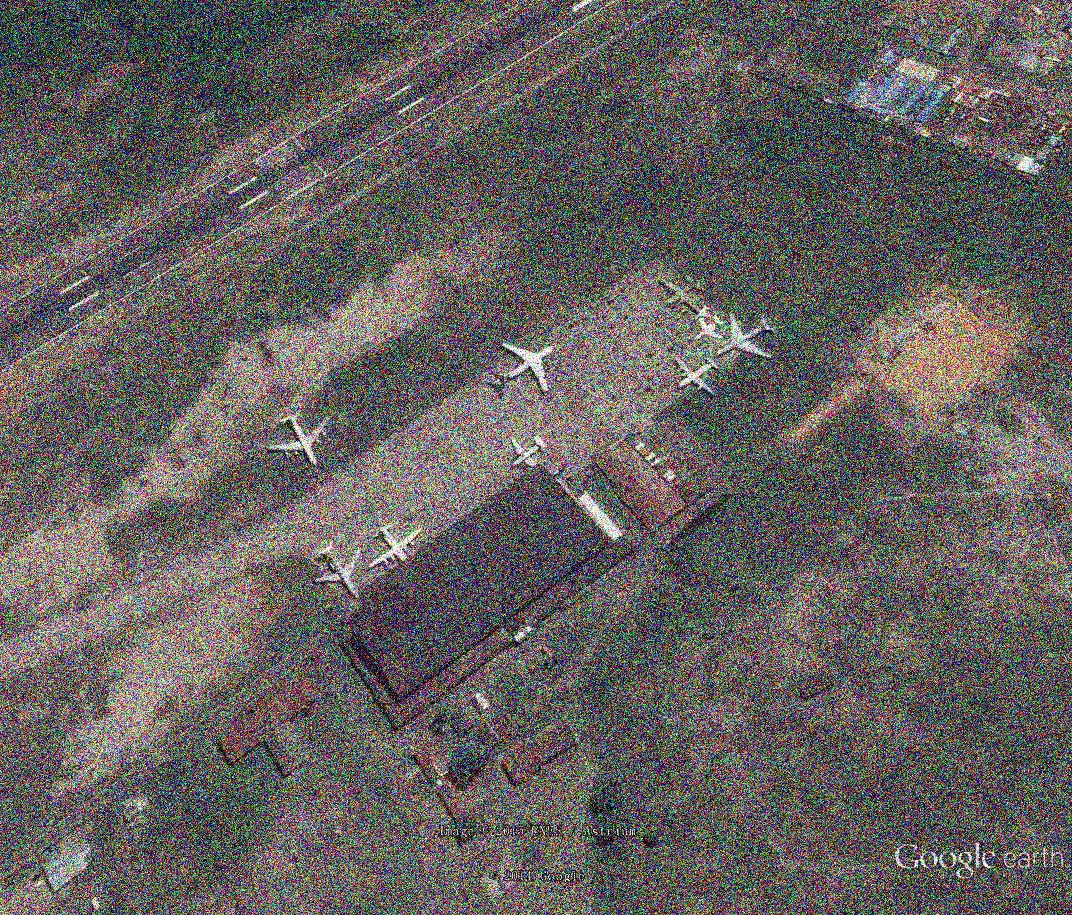aircraft: (266, 408, 335, 478), (706, 307, 783, 367), (491, 334, 561, 399), (304, 538, 362, 606), (365, 520, 431, 576), (655, 270, 711, 318), (669, 354, 718, 402), (506, 430, 550, 478), (691, 312, 727, 346), (691, 301, 712, 321)
